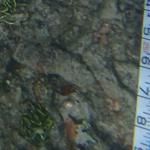dead: (3, 3, 131, 146)
